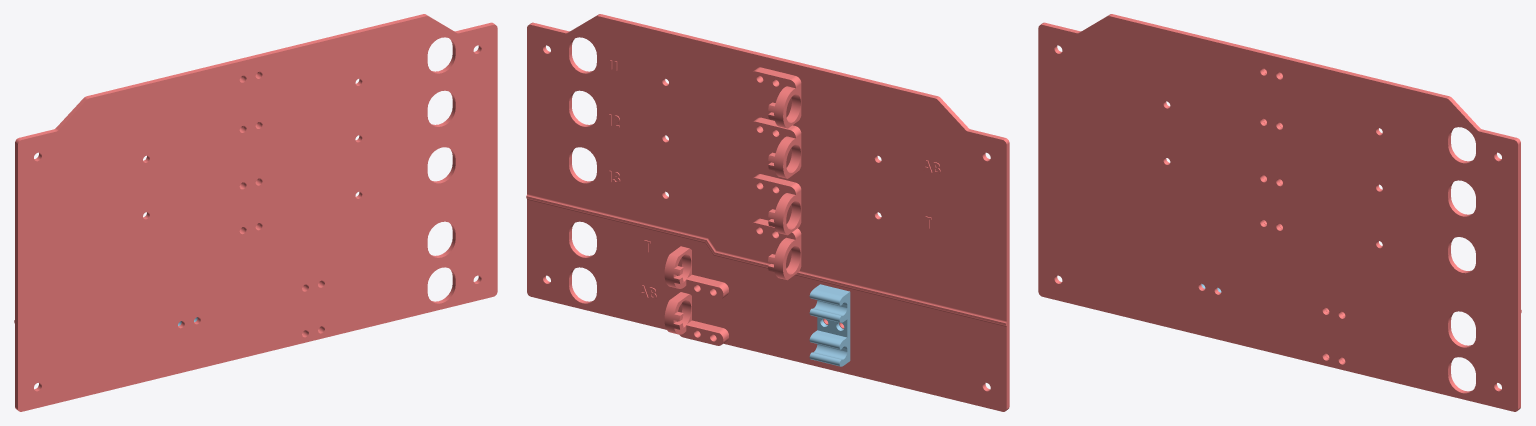
3 views of the same model, side by side, from view 1: azimuth 30°, elevation 25°; view 2: azimuth 150°, elevation 25°; view 3: azimuth 330°, elevation 25° (orthographic).
Parts seen in each view (by area): view 1: pneumatic_base_plate-1 - Part; view 2: pneumatic_base_plate-1 - Part, PT Clip (Type UU) V2-1 - Part, alpha3_shut_off_mount-1 - Part, alpha3_shut_off_mount-1 4 - Part, alpha3_shut_off_mount-1 2 - Part, alpha3_shut_off_mount-1 6 - Part, alpha3_shut_off_mount-1 5 - Part, alpha3_shut_off_mount-1 3 - Part; view 3: pneumatic_base_plate-1 - Part.
Part boxes in pixels (<box>): pneumatic_base_plate-1 - Part: <box>14,14,497,411</box>; pneumatic_base_plate-1 - Part: <box>526,14,1009,411</box>; PT Clip (Type UU) V2-1 - Part: <box>809,284,850,366</box>; alpha3_shut_off_mount-1 - Part: <box>750,67,801,128</box>; alpha3_shut_off_mount-1 4 - Part: <box>750,174,801,235</box>; alpha3_shut_off_mount-1 2 - Part: <box>750,117,801,178</box>; alpha3_shut_off_mount-1 6 - Part: <box>664,292,728,345</box>; alpha3_shut_off_mount-1 5 - Part: <box>664,246,728,300</box>; alpha3_shut_off_mount-1 3 - Part: <box>749,218,801,280</box>; pneumatic_base_plate-1 - Part: <box>1038,14,1521,411</box>.
Bounding box in the file's own units: 0.24 × 0.142 × 0.0186.
